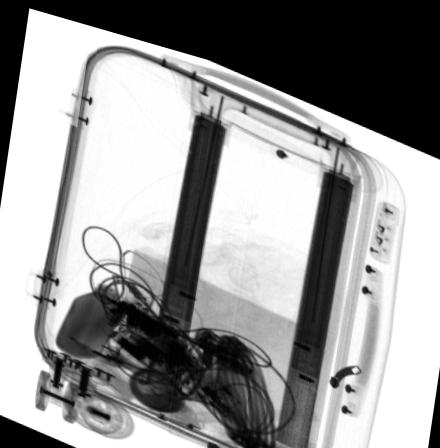Gun: (103, 290, 233, 353)
